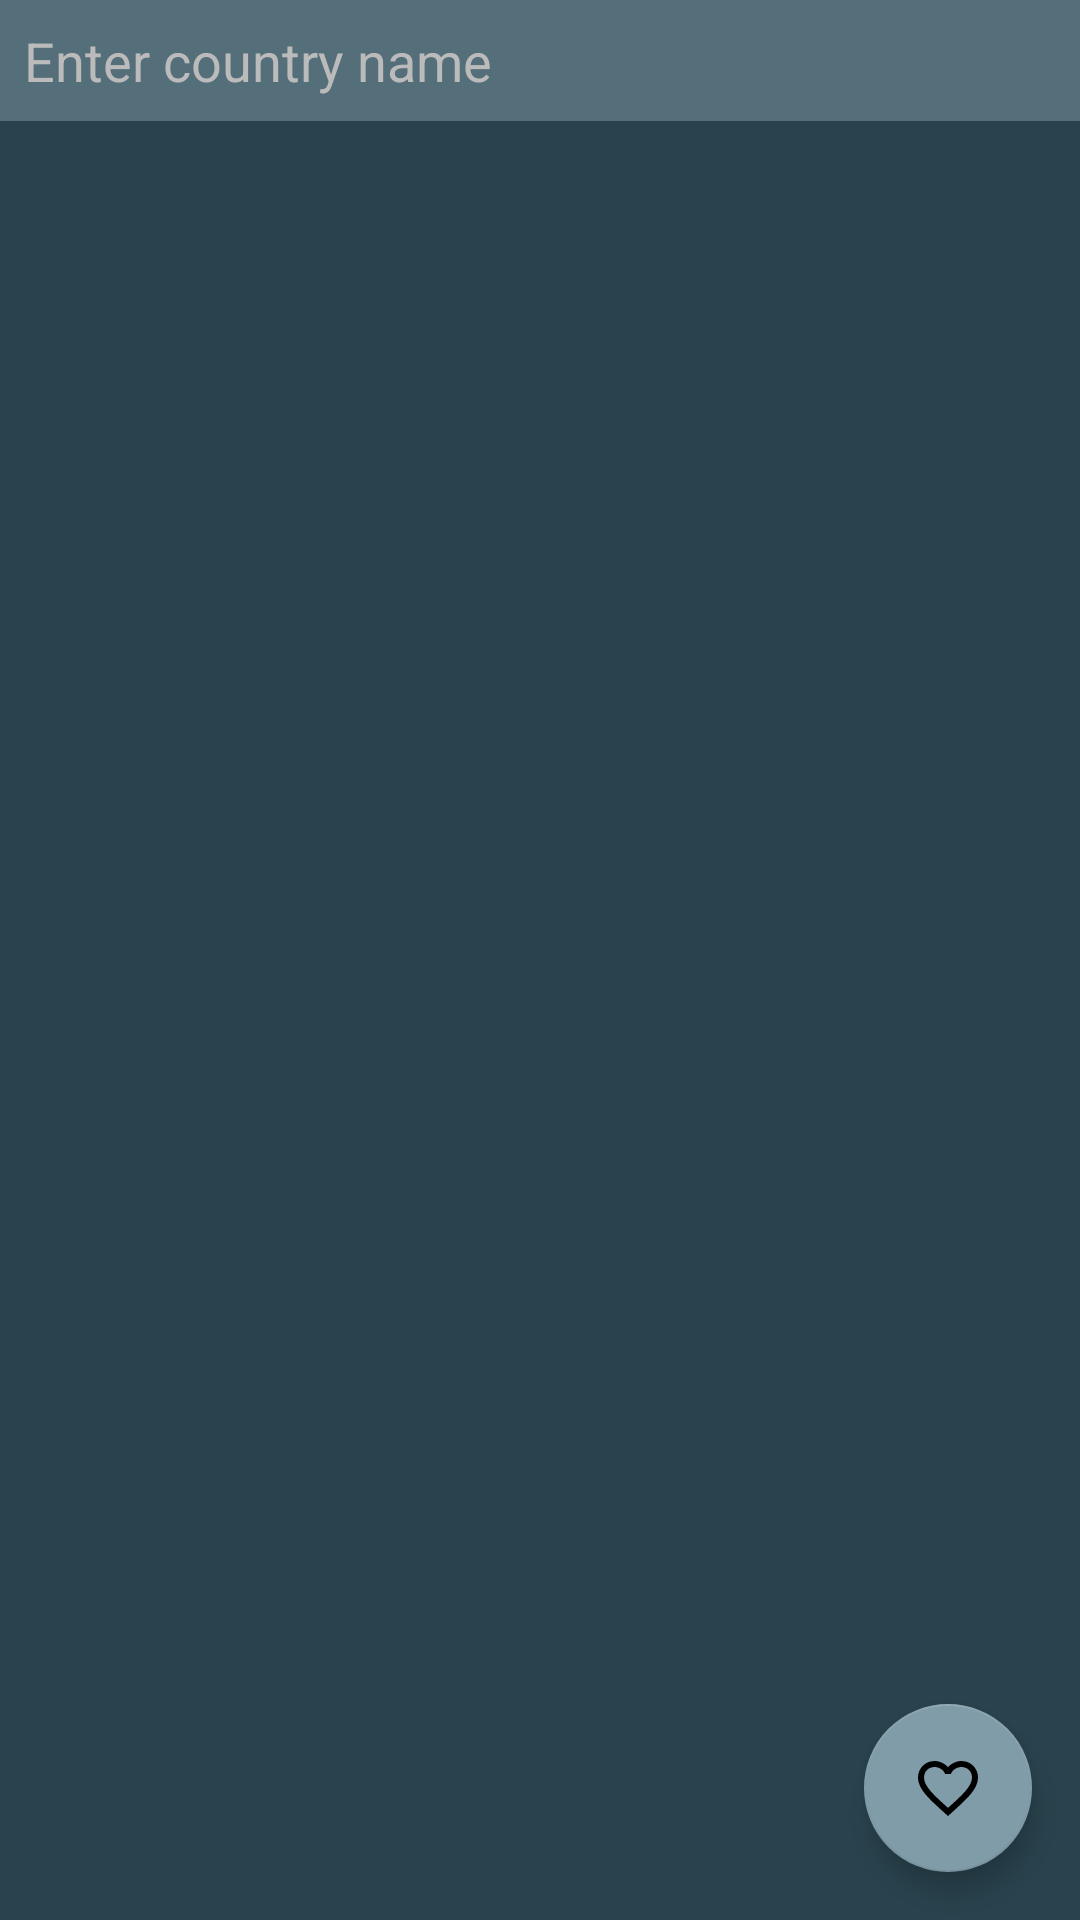

Icons on this 1080*1920 Android screen, each with its box as (x1, y1, x2, y2):
favorite: (864, 1704, 1032, 1872)
